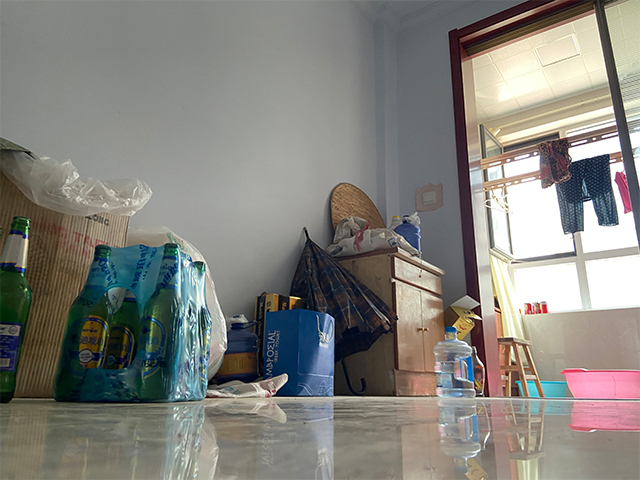cabinet: (331, 246, 446, 398)
stool: (498, 336, 545, 398)
